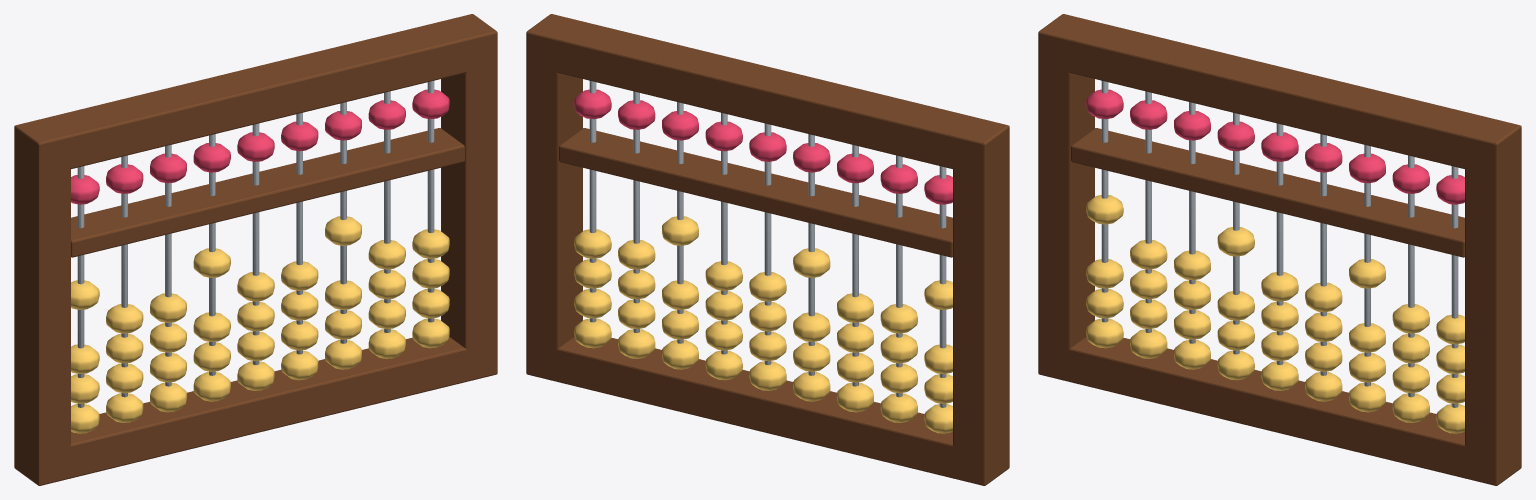
File: sempoa.glb
The picture shows the model from 3 angles, left to right: view 1: azimuth 30°, elevation 25°; view 2: azimuth 150°, elevation 25°; view 3: azimuth 330°, elevation 25°; orthographic projection.
Parts seen in each view (by area): view 1: sempoa; view 2: sempoa; view 3: sempoa.
Boxes of the visible parts, x1=… form: sempoa: x1=14, y1=14, x2=497, y2=485; sempoa: x1=526, y1=14, x2=1009, y2=485; sempoa: x1=1038, y1=14, x2=1521, y2=485.
Bounding box in the file's own units: 0.42 × 0.3 × 0.04.
